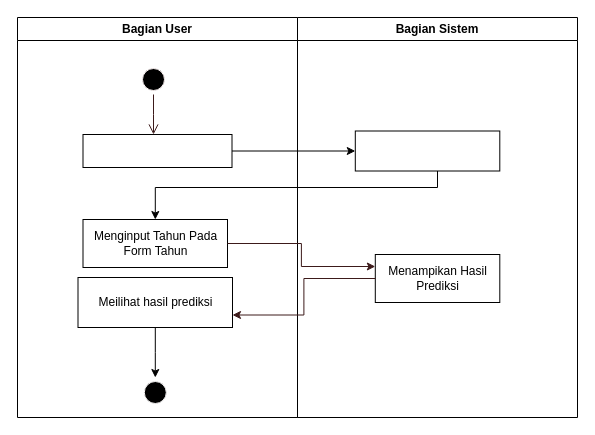
Some shapes in this 595 by 435 pixel diagram are drawn without their labels. Here are the shapes that lost their labels. From the top down, the centre of each, then its label:
At [157,151]: "User membuka browser".
At [427,150]: "browser terbuka menampilkan halaman Form Tahun".
